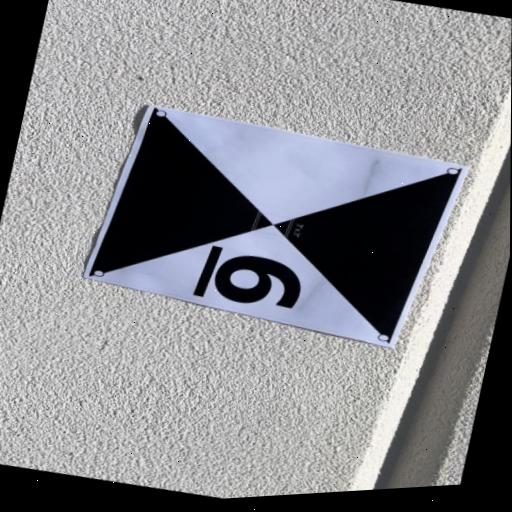target6: (80, 102, 471, 349)
